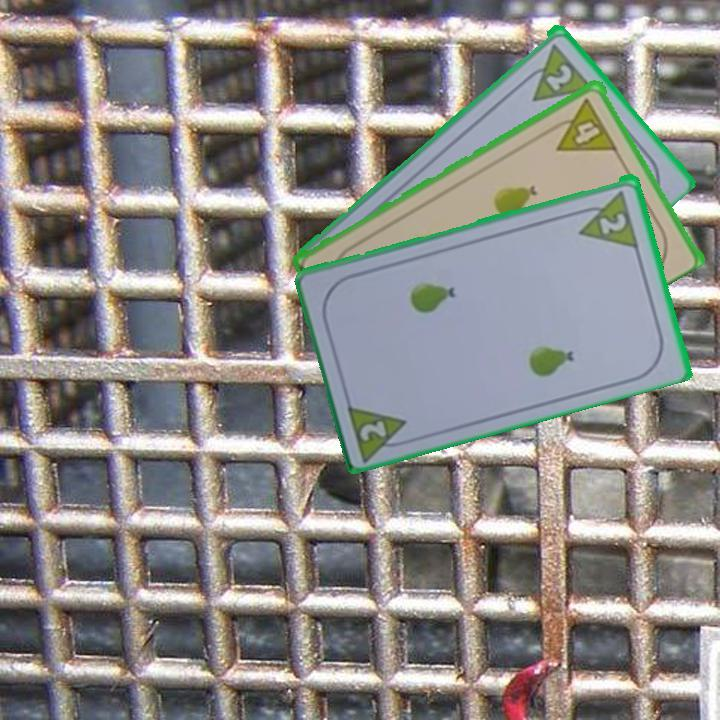2p: (516, 39, 595, 104), (343, 397, 416, 462), (571, 186, 641, 250)
4p: (544, 93, 619, 155)
